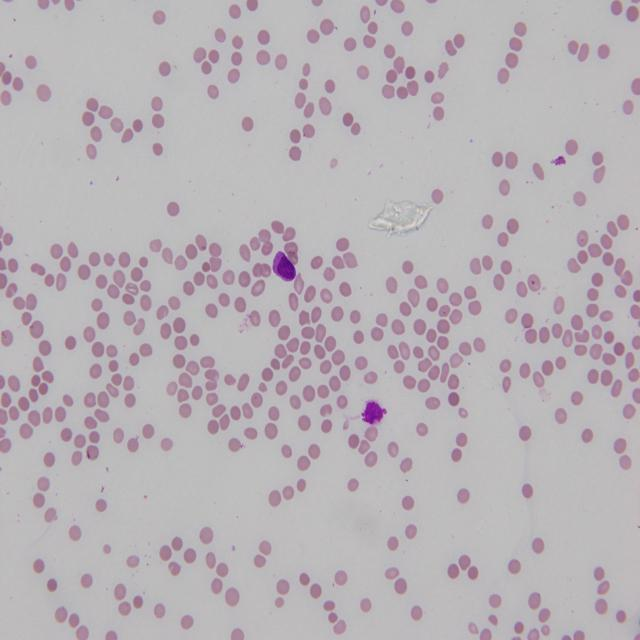cell: (272, 252, 296, 280), (361, 400, 386, 424)
